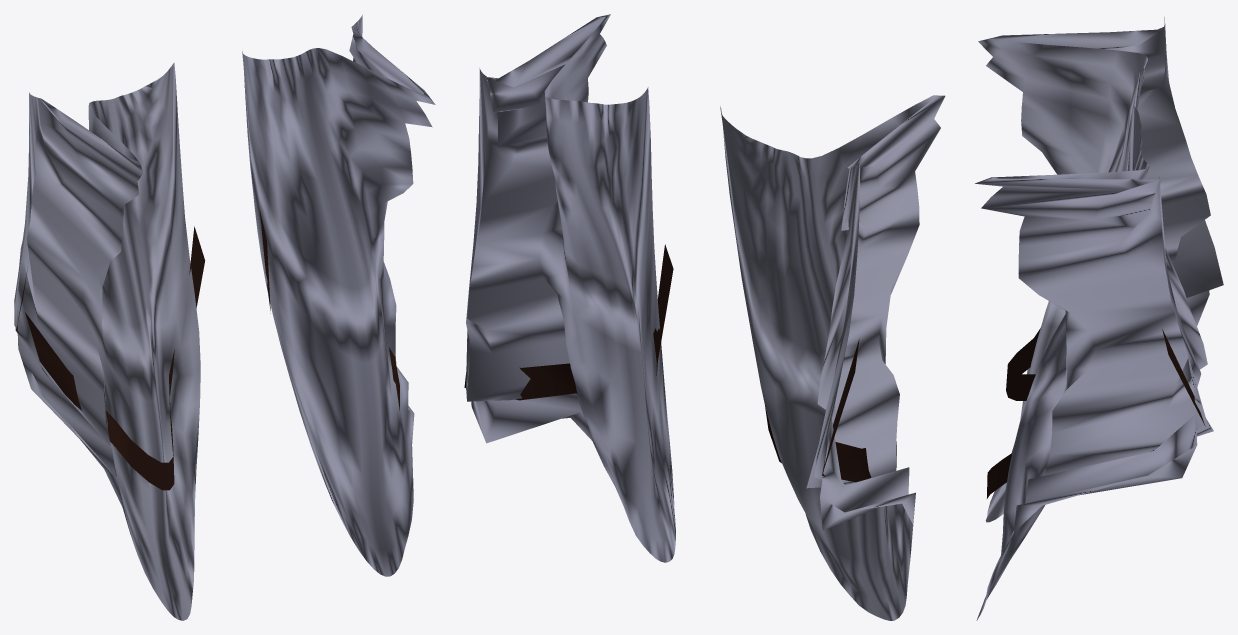
File: gato_cara.glb
The picture shows the model from 3 angles, left to right: view 1: azimuth 30°, elevation 25°; view 2: azimuth 150°, elevation 25°; view 3: azimuth 270°, elevation 25°; orthographic projection. The views are drawn at different scales.
Visible parts, largest first — view 1: Lids; view 2: Lids; view 3: Lids.
Boxes of the visible parts, bbox=[...] form: Lids: bbox=[14, 14, 435, 620]; Lids: bbox=[464, 14, 945, 620]; Lids: bbox=[975, 17, 1223, 620].
Size of the model in its own units: 0.4475 by 0.6291 by 0.2944.
